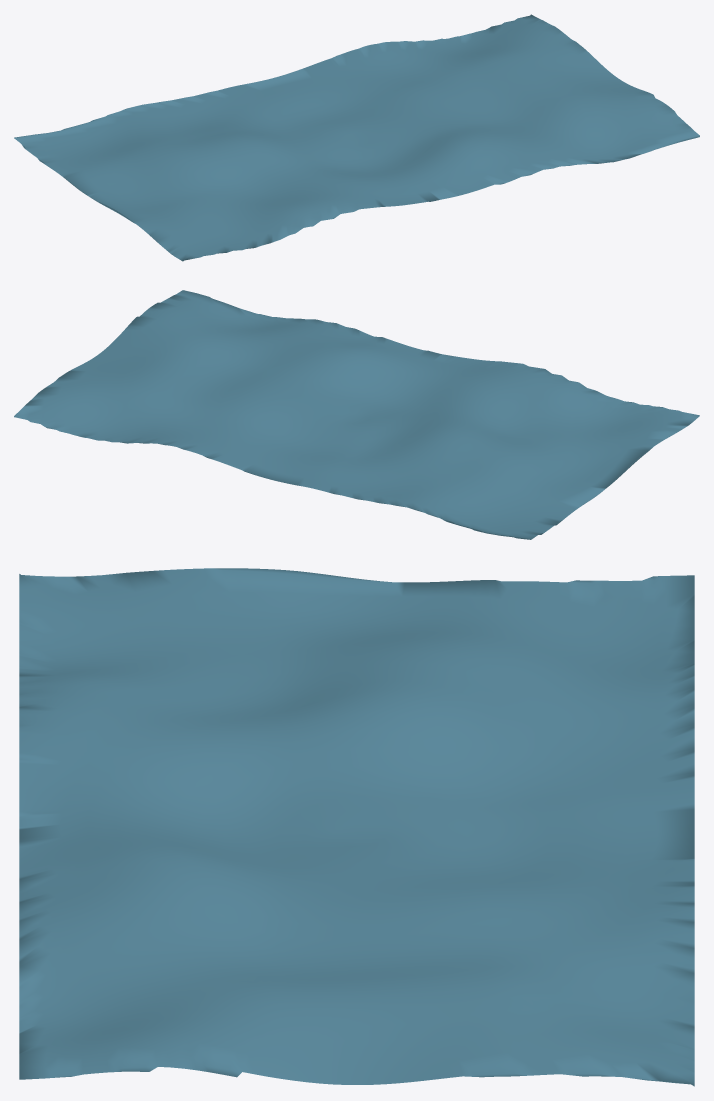
Rendered from water.glb.
The picture shows the model from 3 angles, top to bottom: view 1: azimuth 30°, elevation 25°; view 2: azimuth 150°, elevation 25°; view 3: azimuth 270°, elevation 25°; orthographic projection. The views are drawn at different scales.
Parts seen in each view (by area): view 1: f_1Shape; view 2: f_1Shape; view 3: f_1Shape.
Boxes of the visible parts, x1,y1,x2,y2 form: f_1Shape: (14, 14, 699, 261); f_1Shape: (14, 290, 699, 539); f_1Shape: (19, 568, 694, 1086).
Bounding box in the file's own units: 0.6081 × 0.0222 × 0.344.
